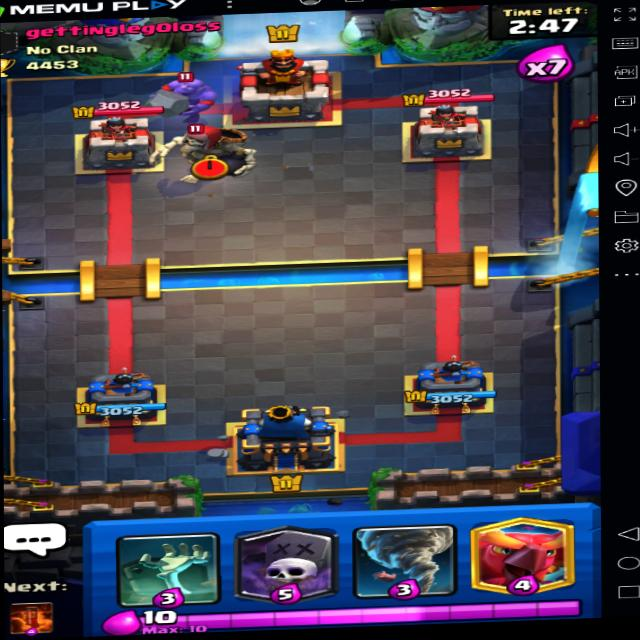Bowler: (144, 67, 220, 115)
Giantskeleton: (149, 108, 268, 189)
